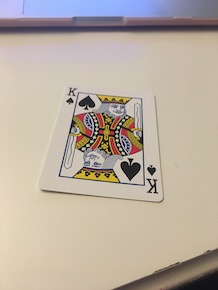KingOfSpades: (34, 80, 171, 206)
